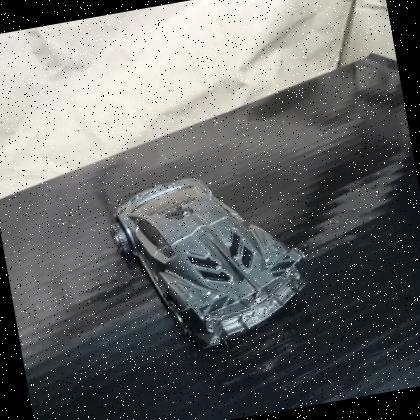Car: (98, 152, 324, 374)
